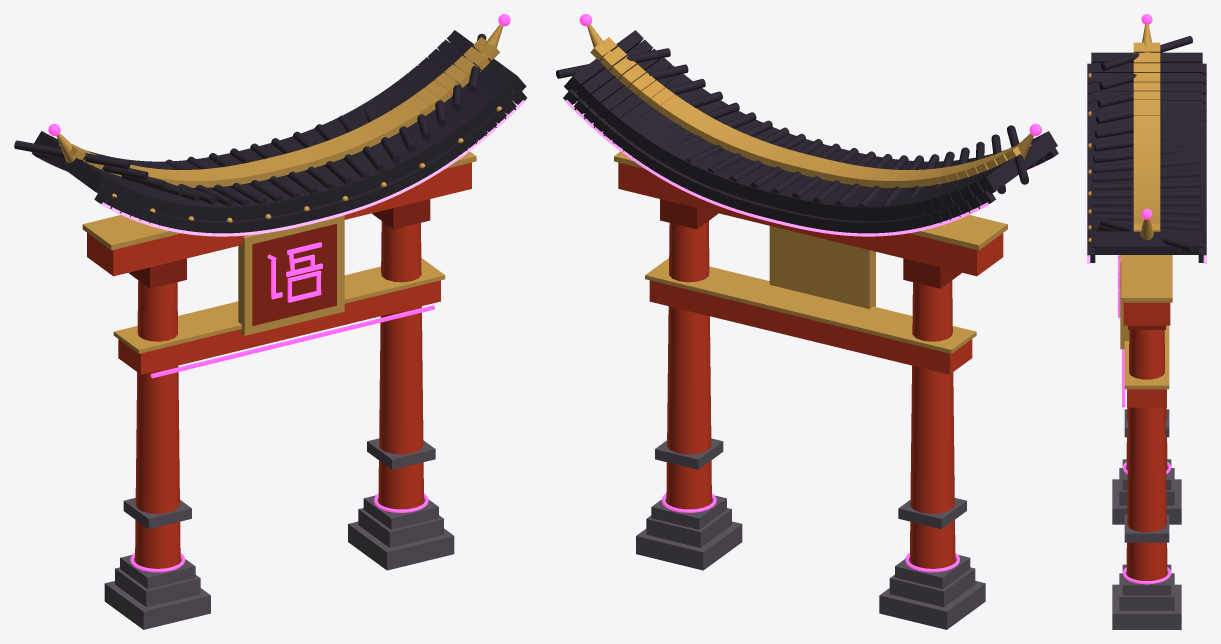
File: chinese-gate-yu.glb
3 renders of one model, left to right at view 1: azimuth 30°, elevation 25°; view 2: azimuth 150°, elevation 25°; view 3: azimuth 270°, elevation 25°, orthographic. The views are drawn at different scales.
Visible parts, largest first — view 1: pillar_left, pillar_right, lintel_lower, plaque_panel, lintel_main, lintel_lower_cap, plaque_frame, plinth_lower_left, plinth_lower_right, lintel_main_cap, plinth_upper_left, plinth_upper_right (+14 smaller); view 2: pillar_left, pillar_right, lintel_lower_cap, lintel_lower, plaque_frame, lintel_main, plinth_lower_right, plinth_lower_left, lintel_main_cap, plinth_upper_left, plinth_upper_right, roof_slab_0 (+10 smaller); view 3: pillar_right, lintel_main_cap, plinth_lower_right, roof_slab_43, lintel_main, plinth_upper_right, lintel_lower_cap, plinth_lower_left, roof_slab_0, collar_low_right, lintel_lower, roof_slab_1 (+56 smaller).
Boxes of the visible parts, x1=… form: pillar_left: x1=135, y1=280, x2=180, y2=568; pillar_right: x1=378, y1=221, x2=423, y2=509; lintel_lower: x1=118, y1=280, x2=440, y2=374; plaque_panel: x1=252, y1=223, x2=336, y2=325; lintel_main: x1=87, y1=162, x2=471, y2=276; lintel_lower_cap: x1=113, y1=258, x2=445, y2=353; plaque_frame: x1=238, y1=215, x2=344, y2=335; plinth_lower_left: x1=104, y1=581, x2=210, y2=629; plinth_lower_right: x1=348, y1=521, x2=454, y2=570; lintel_main_cap: x1=82, y1=151, x2=476, y2=250; plinth_upper_left: x1=115, y1=567, x2=200, y2=607; plinth_upper_right: x1=358, y1=508, x2=443, y2=547; pillar_left: x1=909, y1=280, x2=955, y2=568; pillar_right: x1=666, y1=221, x2=711, y2=509; lintel_lower_cap: x1=645, y1=258, x2=976, y2=353; lintel_lower: x1=649, y1=280, x2=972, y2=374; plaque_frame: x1=769, y1=226, x2=875, y2=308; lintel_main: x1=618, y1=162, x2=1003, y2=276; plinth_lower_right: x1=636, y1=521, x2=742, y2=570; plinth_lower_left: x1=879, y1=581, x2=985, y2=629; lintel_main_cap: x1=614, y1=151, x2=1007, y2=250; plinth_upper_left: x1=889, y1=567, x2=975, y2=607; plinth_upper_right: x1=646, y1=508, x2=731, y2=547; roof_slab_0: x1=978, y1=131, x2=1057, y2=194; pillar_right: x1=1126, y1=330, x2=1167, y2=580; lintel_main_cap: x1=1121, y1=255, x2=1172, y2=302; plinth_lower_right: x1=1112, y1=584, x2=1181, y2=629; roof_slab_43: x1=1091, y1=231, x2=1202, y2=248; lintel_main: x1=1123, y1=302, x2=1170, y2=325; plinth_upper_right: x1=1119, y1=573, x2=1174, y2=610; lintel_lower_cap: x1=1124, y1=325, x2=1169, y2=389; plinth_lower_left: x1=1112, y1=479, x2=1181, y2=524; roof_slab_0: x1=1091, y1=52, x2=1202, y2=62; collar_low_right: x1=1122, y1=564, x2=1171, y2=595; lintel_lower: x1=1127, y1=389, x2=1166, y2=407; roof_slab_1: x1=1091, y1=63, x2=1202, y2=72.
Size of the model in its own units: 4.35 by 4.47 by 1.08.
